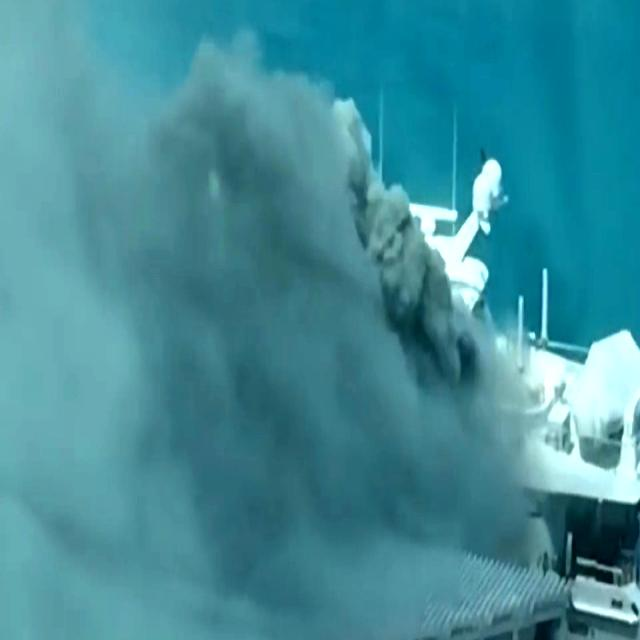smoke: (0, 68, 307, 640), (134, 84, 421, 595)
